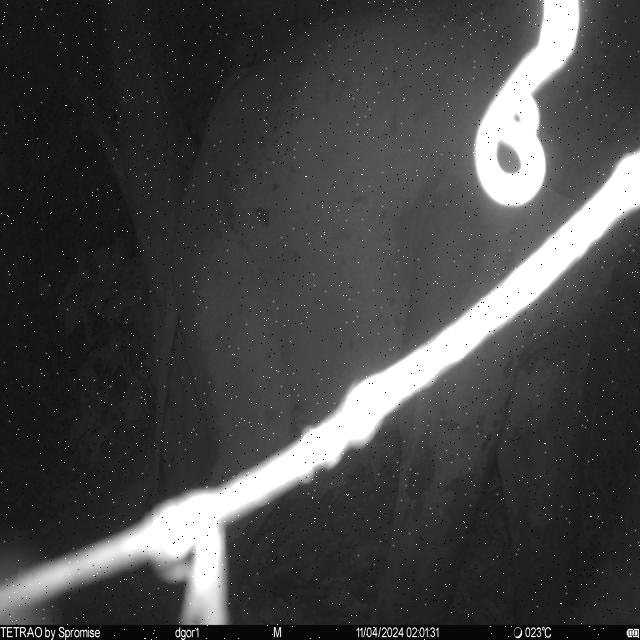elephant: (151, 2, 640, 624)
